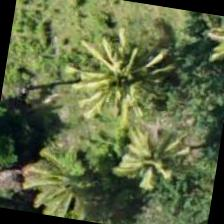Kelapa_Sawit: (102, 102, 204, 206), (72, 24, 174, 127), (12, 128, 114, 223)
